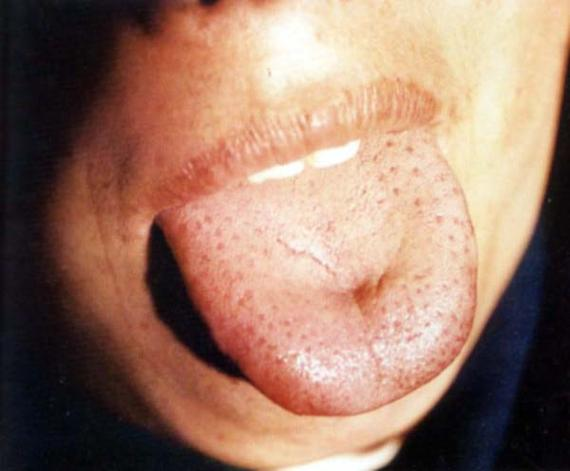baitaishe: (155, 129, 478, 415)
hongdianshe: (390, 183, 400, 198), (214, 239, 226, 251), (281, 315, 292, 327), (384, 137, 394, 150), (303, 343, 312, 356)
hongshe: (155, 129, 478, 415)
piweiao: (273, 231, 405, 312)
